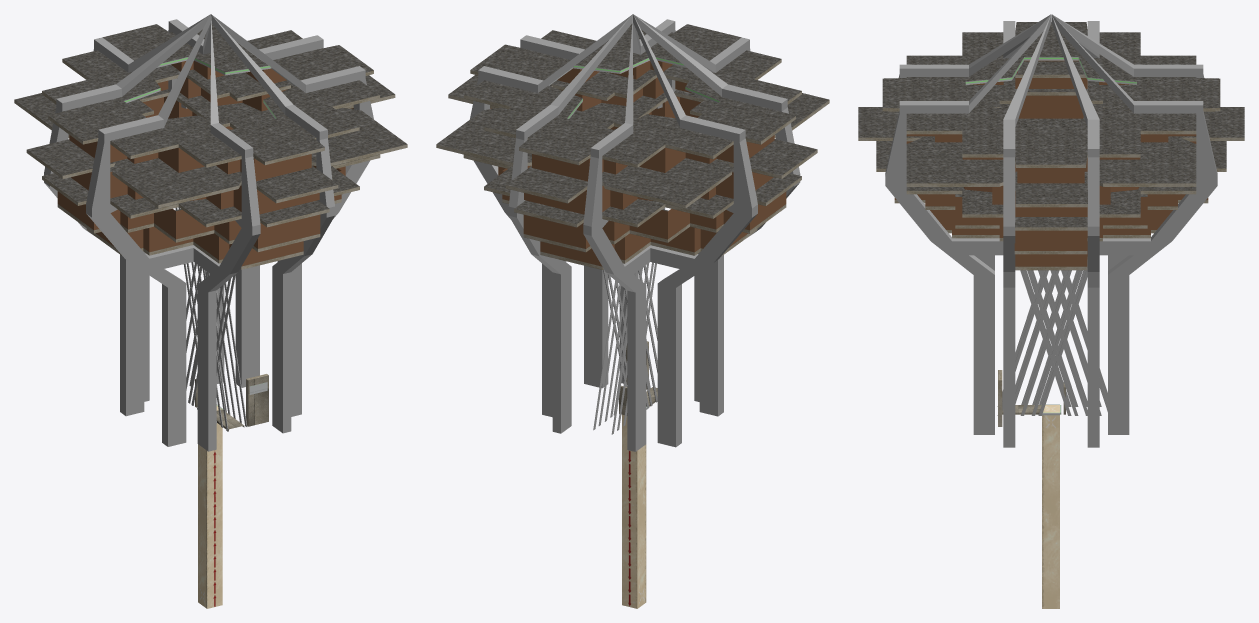
Rendered from Exhibit_Str_Tower_2_Art.fbx.
3 views of the same model, side by side, from view 1: azimuth 30°, elevation 25°; view 2: azimuth 150°, elevation 25°; view 3: azimuth 270°, elevation 25° (orthographic).
Parts seen in each view (by area): view 1: Exhibit_Str_Tower_Pillars_2, Exhibit_Str_Tower_2_Floor_5, Exhibit_Str_Tower_2_Floor_4, Exhibit_Str_Tower_2_Glass, Exhibit_Str_Tower_2_Floor_3, Elevator_Machine, Elevator_Glasswall, Exhibit_Sign1, Exhibit_Str_Tower_2_Floor_2, Exhibit_Str_Tower_2_Floor_1; view 2: Exhibit_Str_Tower_Pillars_2, Exhibit_Str_Tower_2_Floor_5, Exhibit_Str_Tower_2_Floor_4, Exhibit_Str_Tower_2_Glass, Exhibit_Str_Tower_2_Floor_3, Elevator_Machine, Elevator_Glasswall, Exhibit_Str_Tower_2_Floor_2, Exhibit_Str_Tower_2_Floor_1; view 3: Exhibit_Str_Tower_Pillars_2, Exhibit_Str_Tower_2_Floor_5, Exhibit_Str_Tower_2_Floor_4, Exhibit_Str_Tower_2_Glass, Elevator_Glasswall, Exhibit_Str_Tower_2_Floor_3, Elevator_Machine, Exhibit_Str_Tower_2_Floor_2, Exhibit_Str_Tower_2_Floor_1.
Boxes of the visible parts, bbox=[...] form: Exhibit_Str_Tower_Pillars_2: bbox=[44, 14, 373, 451]; Exhibit_Str_Tower_2_Floor_5: bbox=[42, 23, 379, 167]; Exhibit_Str_Tower_2_Floor_4: bbox=[14, 64, 407, 208]; Exhibit_Str_Tower_2_Glass: bbox=[57, 61, 353, 266]; Exhibit_Str_Tower_2_Floor_3: bbox=[42, 89, 380, 227]; Elevator_Machine: bbox=[198, 405, 222, 608]; Elevator_Glasswall: bbox=[175, 207, 247, 431]; Exhibit_Sign1: bbox=[246, 374, 268, 426]; Exhibit_Str_Tower_2_Floor_2: bbox=[57, 167, 341, 252]; Exhibit_Str_Tower_2_Floor_1: bbox=[86, 184, 303, 269]; Exhibit_Str_Tower_Pillars_2: bbox=[470, 14, 800, 451]; Exhibit_Str_Tower_2_Floor_5: bbox=[464, 23, 801, 167]; Exhibit_Str_Tower_2_Floor_4: bbox=[436, 64, 829, 208]; Exhibit_Str_Tower_2_Glass: bbox=[490, 60, 786, 266]; Exhibit_Str_Tower_2_Floor_3: bbox=[463, 89, 801, 227]; Elevator_Machine: bbox=[622, 414, 646, 608]; Elevator_Glasswall: bbox=[593, 207, 665, 434]; Exhibit_Str_Tower_2_Floor_2: bbox=[502, 166, 786, 252]; Exhibit_Str_Tower_2_Floor_1: bbox=[540, 184, 757, 269]; Exhibit_Str_Tower_Pillars_2: bbox=[885, 14, 1217, 447]; Exhibit_Str_Tower_2_Floor_5: bbox=[882, 22, 1220, 167]; Exhibit_Str_Tower_2_Floor_4: bbox=[858, 61, 1244, 207]; Exhibit_Str_Tower_2_Glass: bbox=[894, 60, 1208, 266]; Elevator_Glasswall: bbox=[997, 260, 1107, 415]; Exhibit_Str_Tower_2_Floor_3: bbox=[876, 89, 1226, 230]; Elevator_Machine: bbox=[1042, 405, 1059, 608]; Exhibit_Str_Tower_2_Floor_2: bbox=[894, 118, 1208, 254]; Exhibit_Str_Tower_2_Floor_1: bbox=[946, 173, 1156, 270].
Size of what is drawn, in the model's own units: 3215 by 5438 by 3219.
6 materials, 4 textured.
